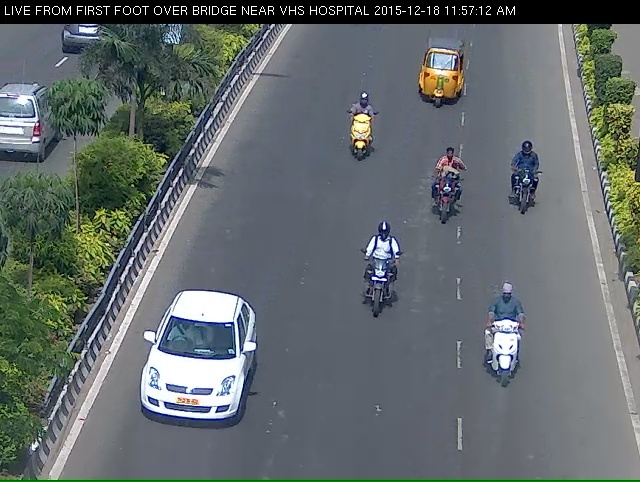Car: (118, 334, 257, 476), (406, 48, 477, 121)
Person: (353, 245, 402, 351), (497, 147, 546, 251), (490, 315, 534, 411), (425, 158, 466, 246), (337, 101, 382, 180)
